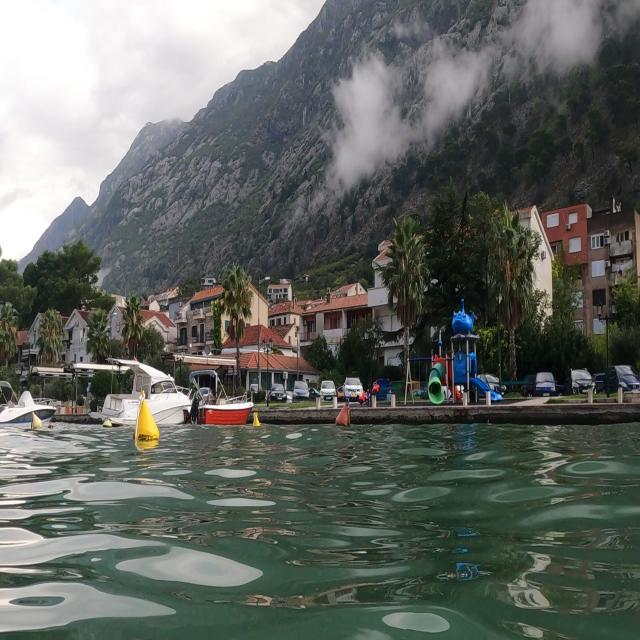boat: (103, 347, 255, 438)
buoy: (129, 393, 166, 458), (334, 398, 356, 436)
